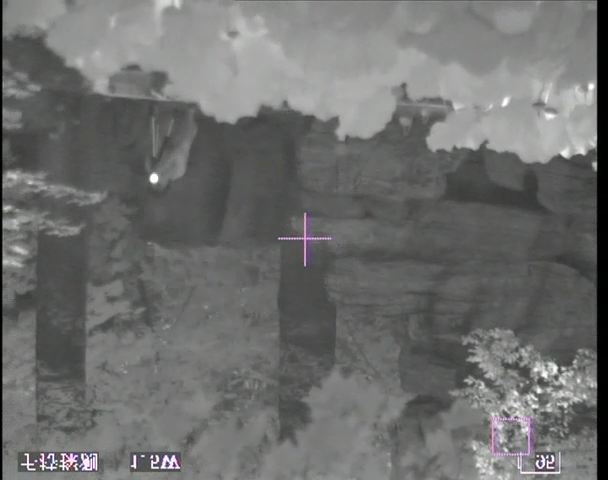my: (147, 172, 160, 186)
